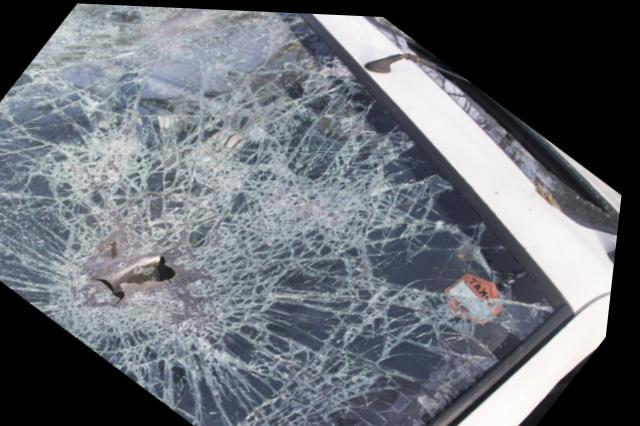glass shatter: (0, 3, 562, 426)
